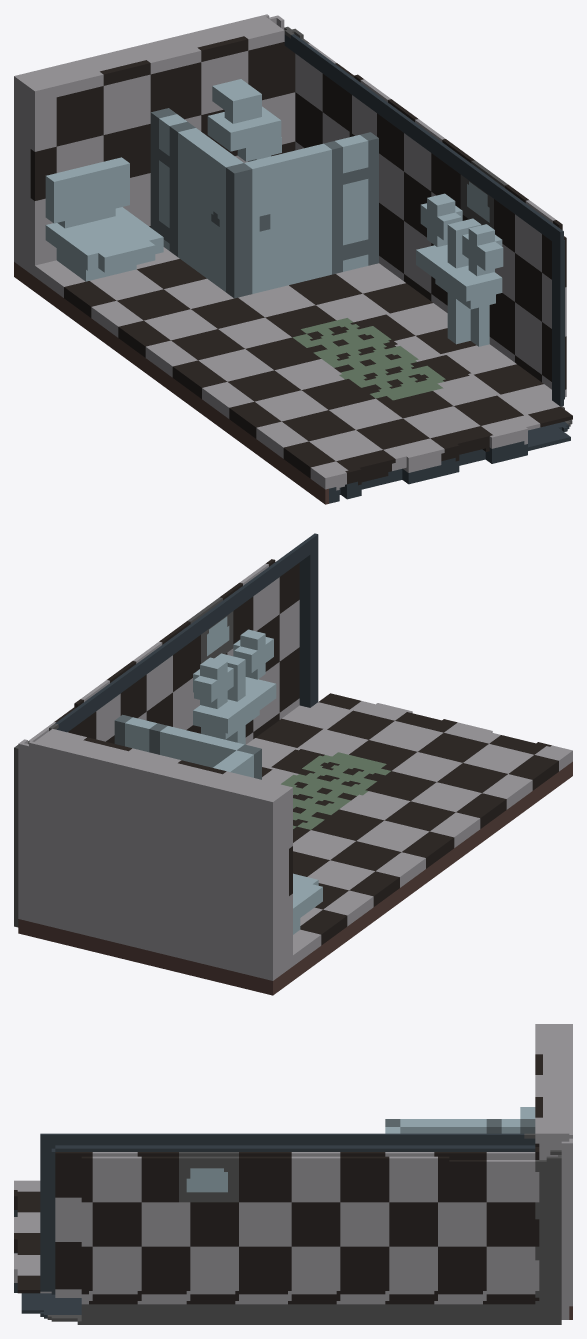
Rendered from Sunkent City - Player House-3-bathroom.obj.
The picture shows the model from 3 angles, top to bottom: view 1: azimuth 30°, elevation 25°; view 2: azimuth 150°, elevation 25°; view 3: azimuth 270°, elevation 25°; orthographic projection. The views are drawn at different scales.
Visible parts, largest first — view 1: bathroom; view 2: bathroom; view 3: bathroom.
Part boxes in pixels (x1,y1,x2,y2): bathroom: (14, 14, 572, 504); bathroom: (14, 533, 572, 995); bathroom: (14, 1024, 572, 1324).
Bounding box in the file's own units: 7.6 × 5.3 × 14.9.
1 material, 1 textured.
